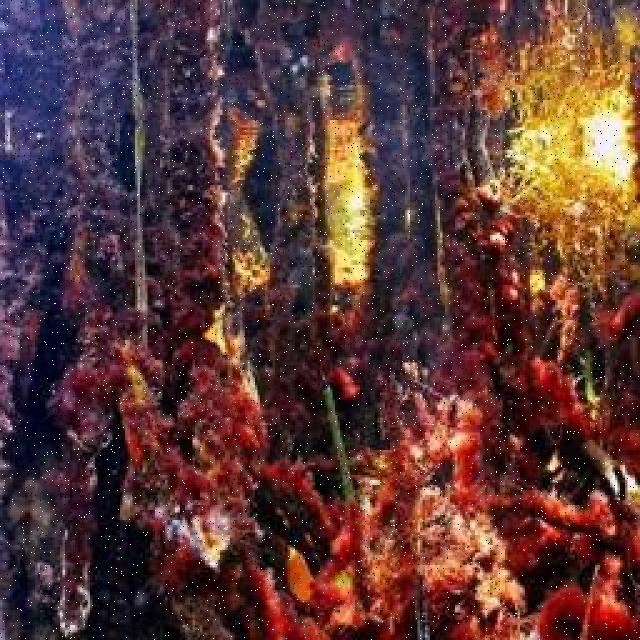reefs: (0, 0, 638, 638)
